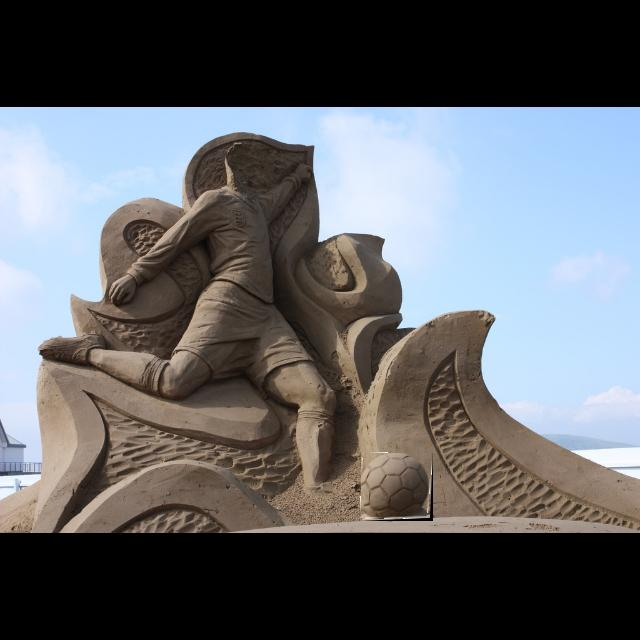Football: (361, 453, 433, 521)
